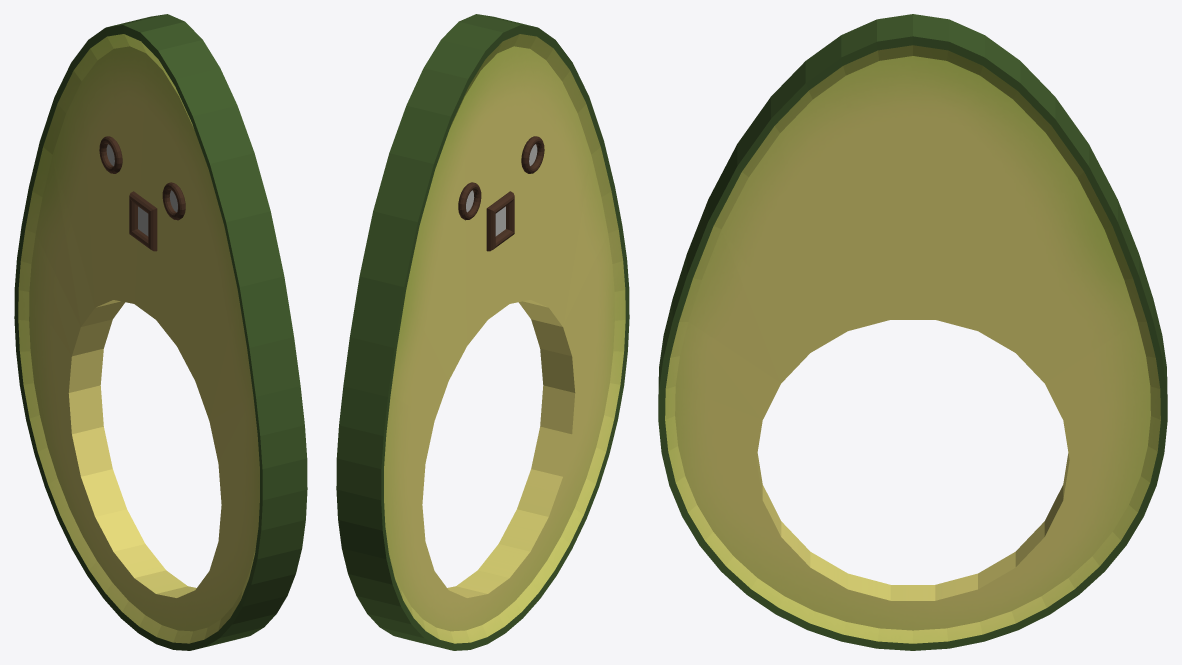
File: Avocado_Model.fbx
3 renders of one model, left to right at view 1: azimuth 30°, elevation 25°; view 2: azimuth 150°, elevation 25°; view 3: azimuth 270°, elevation 25°, orthographic. The views are drawn at different scales.
Visible parts, largest first — view 1: Circle; view 2: Circle; view 3: Circle.
Part boxes in pixels (x1,y1,x2,y2): Circle: [14, 14, 307, 650]; Circle: [336, 14, 629, 650]; Circle: [658, 14, 1167, 650].
Bounding box in the file's own units: 90.98 × 1117 × 838.
Materials: 1 (1 with a texture image).
